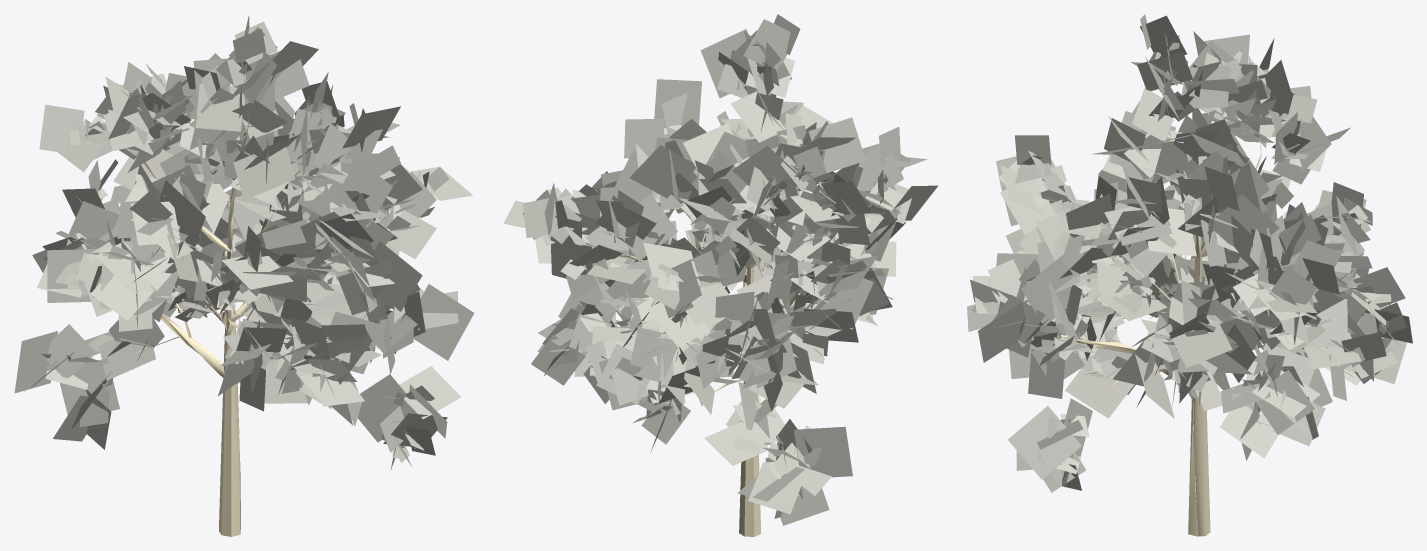
Rendered from ek_mellan_lod2.glb.
The picture shows the model from 3 angles, left to right: view 1: azimuth 30°, elevation 25°; view 2: azimuth 150°, elevation 25°; view 3: azimuth 270°, elevation 25°; orthographic projection. The views are drawn at different scales.
Parts seen in each view (by area): view 1: Tree; view 2: Tree; view 3: Tree.
Part boxes in pixels (box(x1,y1,x2,y2)): Tree: box(14, 15, 474, 536); Tree: box(503, 14, 937, 536); Tree: box(967, 14, 1412, 536).
Size of the model in its own units: 11.78 by 14.94 by 11.67.
